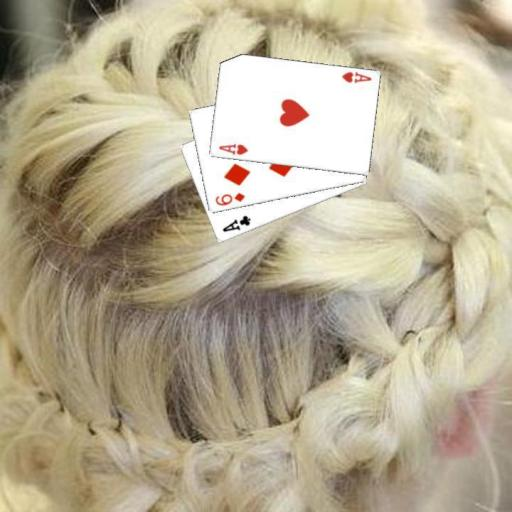card-corner: (219, 213, 252, 233), (212, 190, 246, 208), (338, 68, 372, 85), (215, 141, 249, 156)
